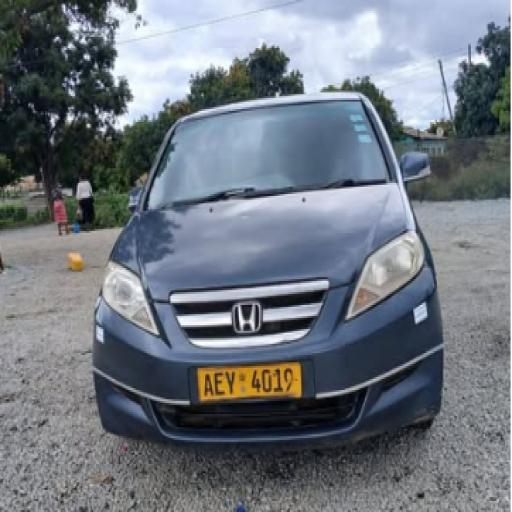number-plates: (196, 362, 301, 398)
